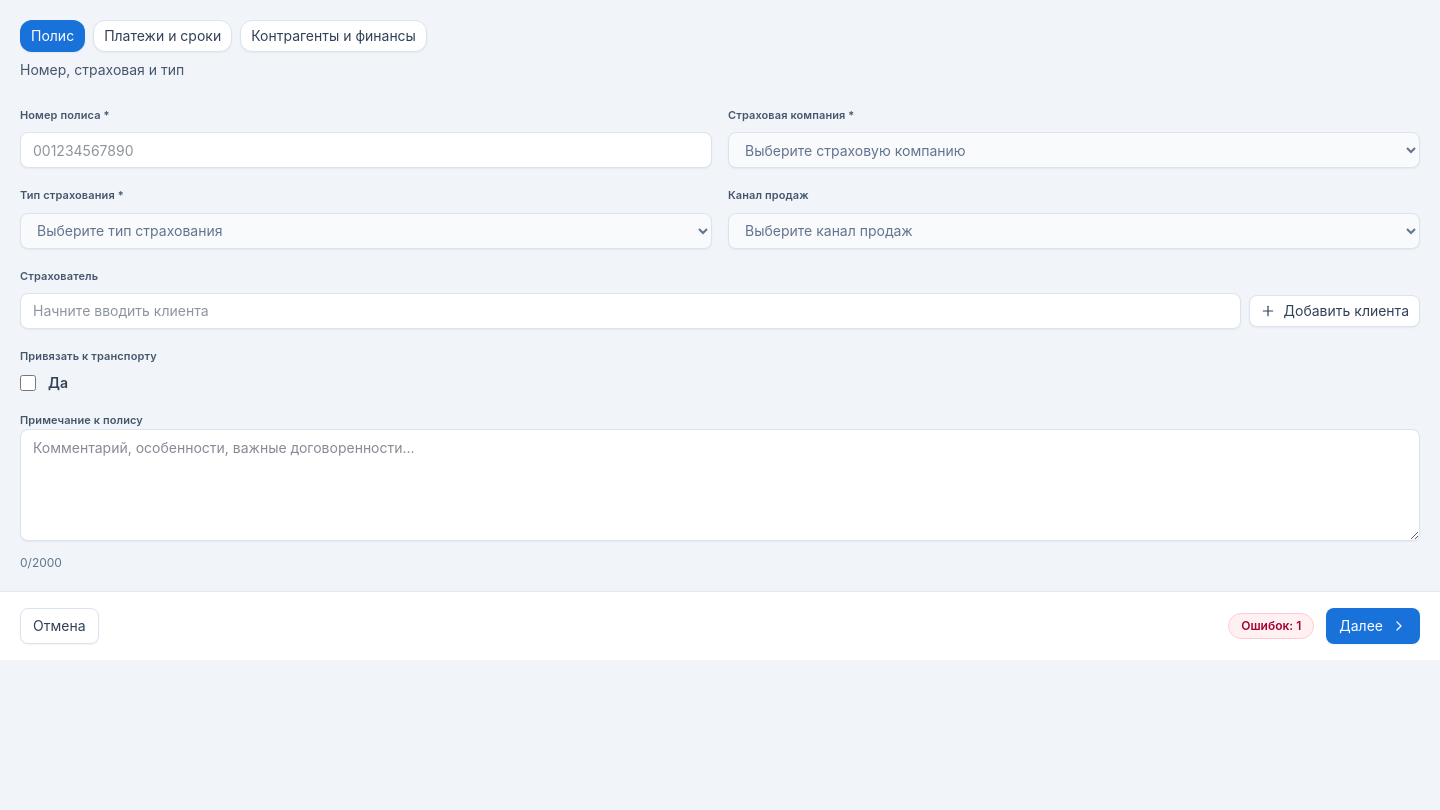
Test: AddPolicyForm › auto-adds only counterparty expense when no executor is provided
Click the button "Контрагенты и финансы".
click(334, 36)  # box [240,20,427,52]
(page scrolled)
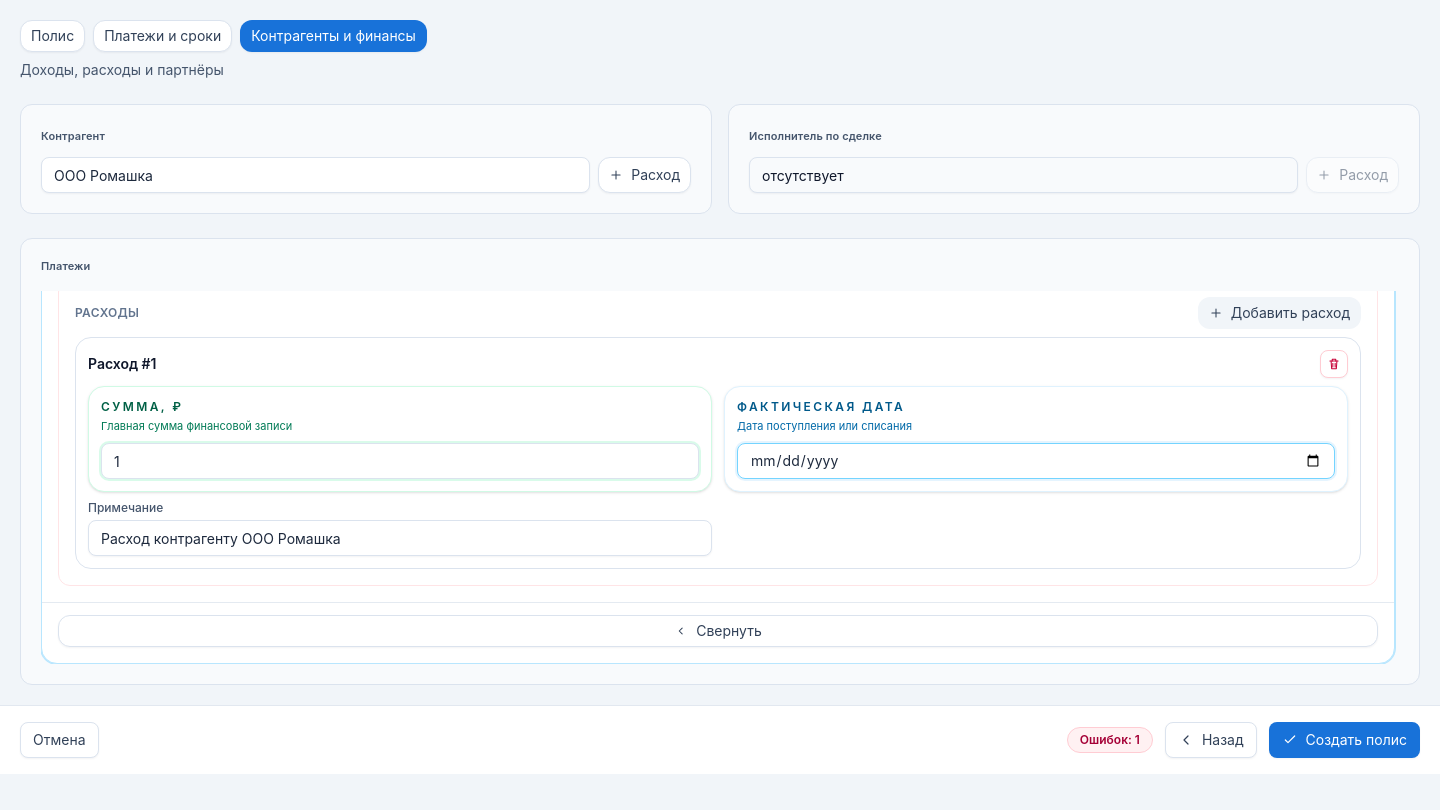
Expected: the field showing "Расход контрагенту ООО Ромашка" below "Примечание" is shown, [88,520,712,556]
